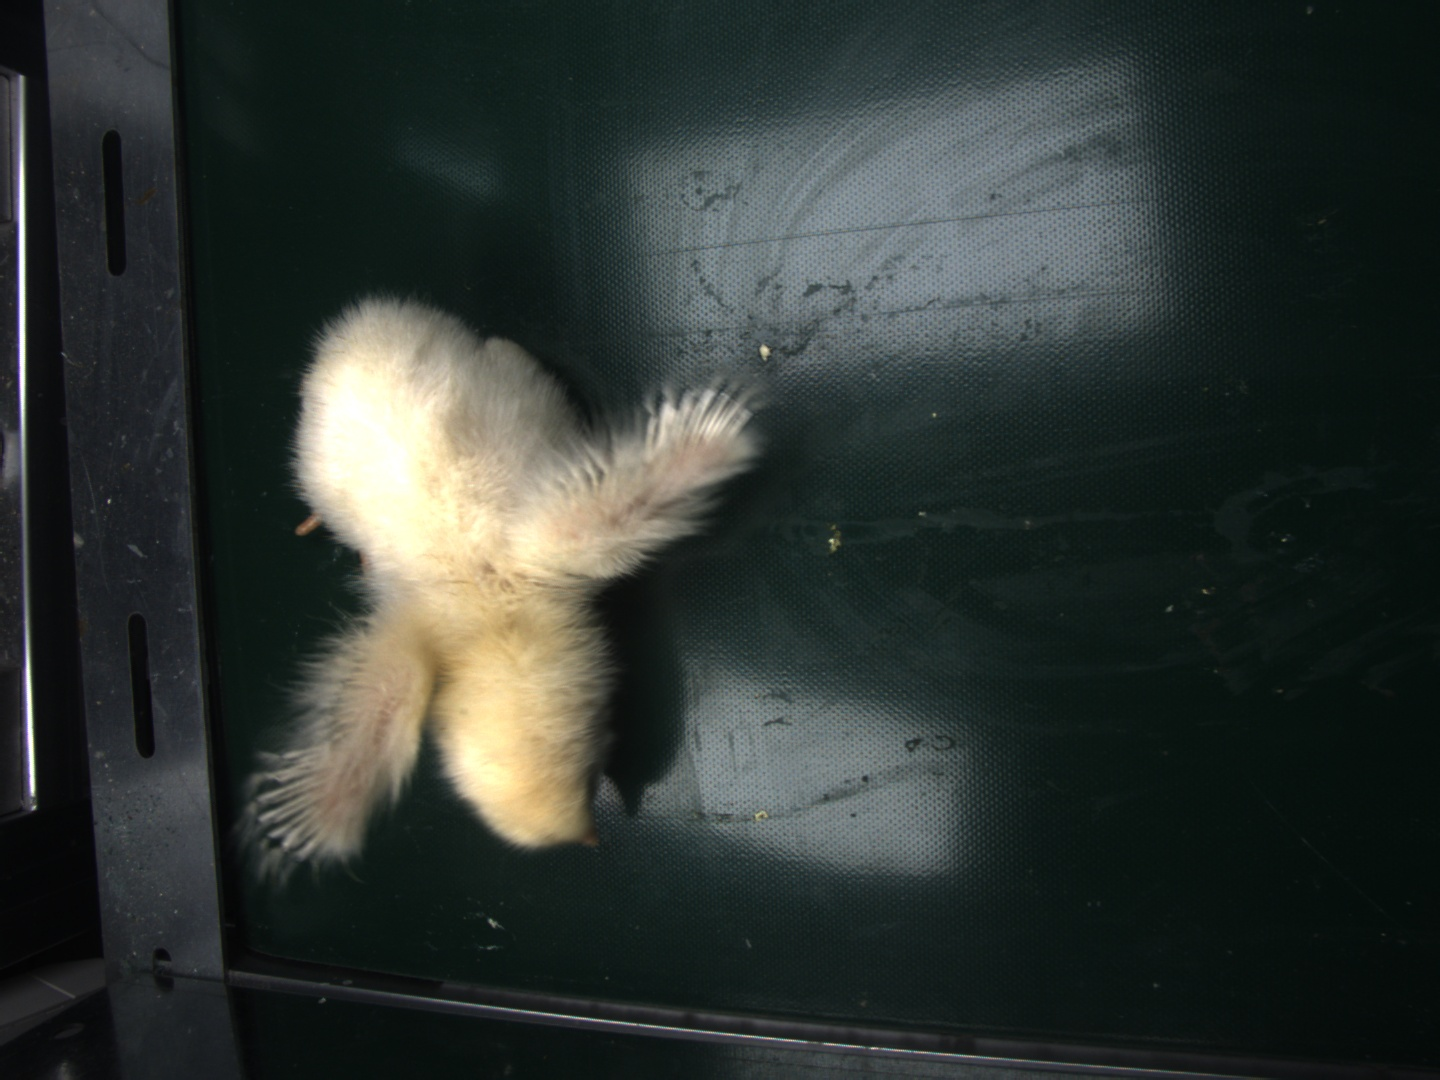male: (253, 754, 331, 857)
